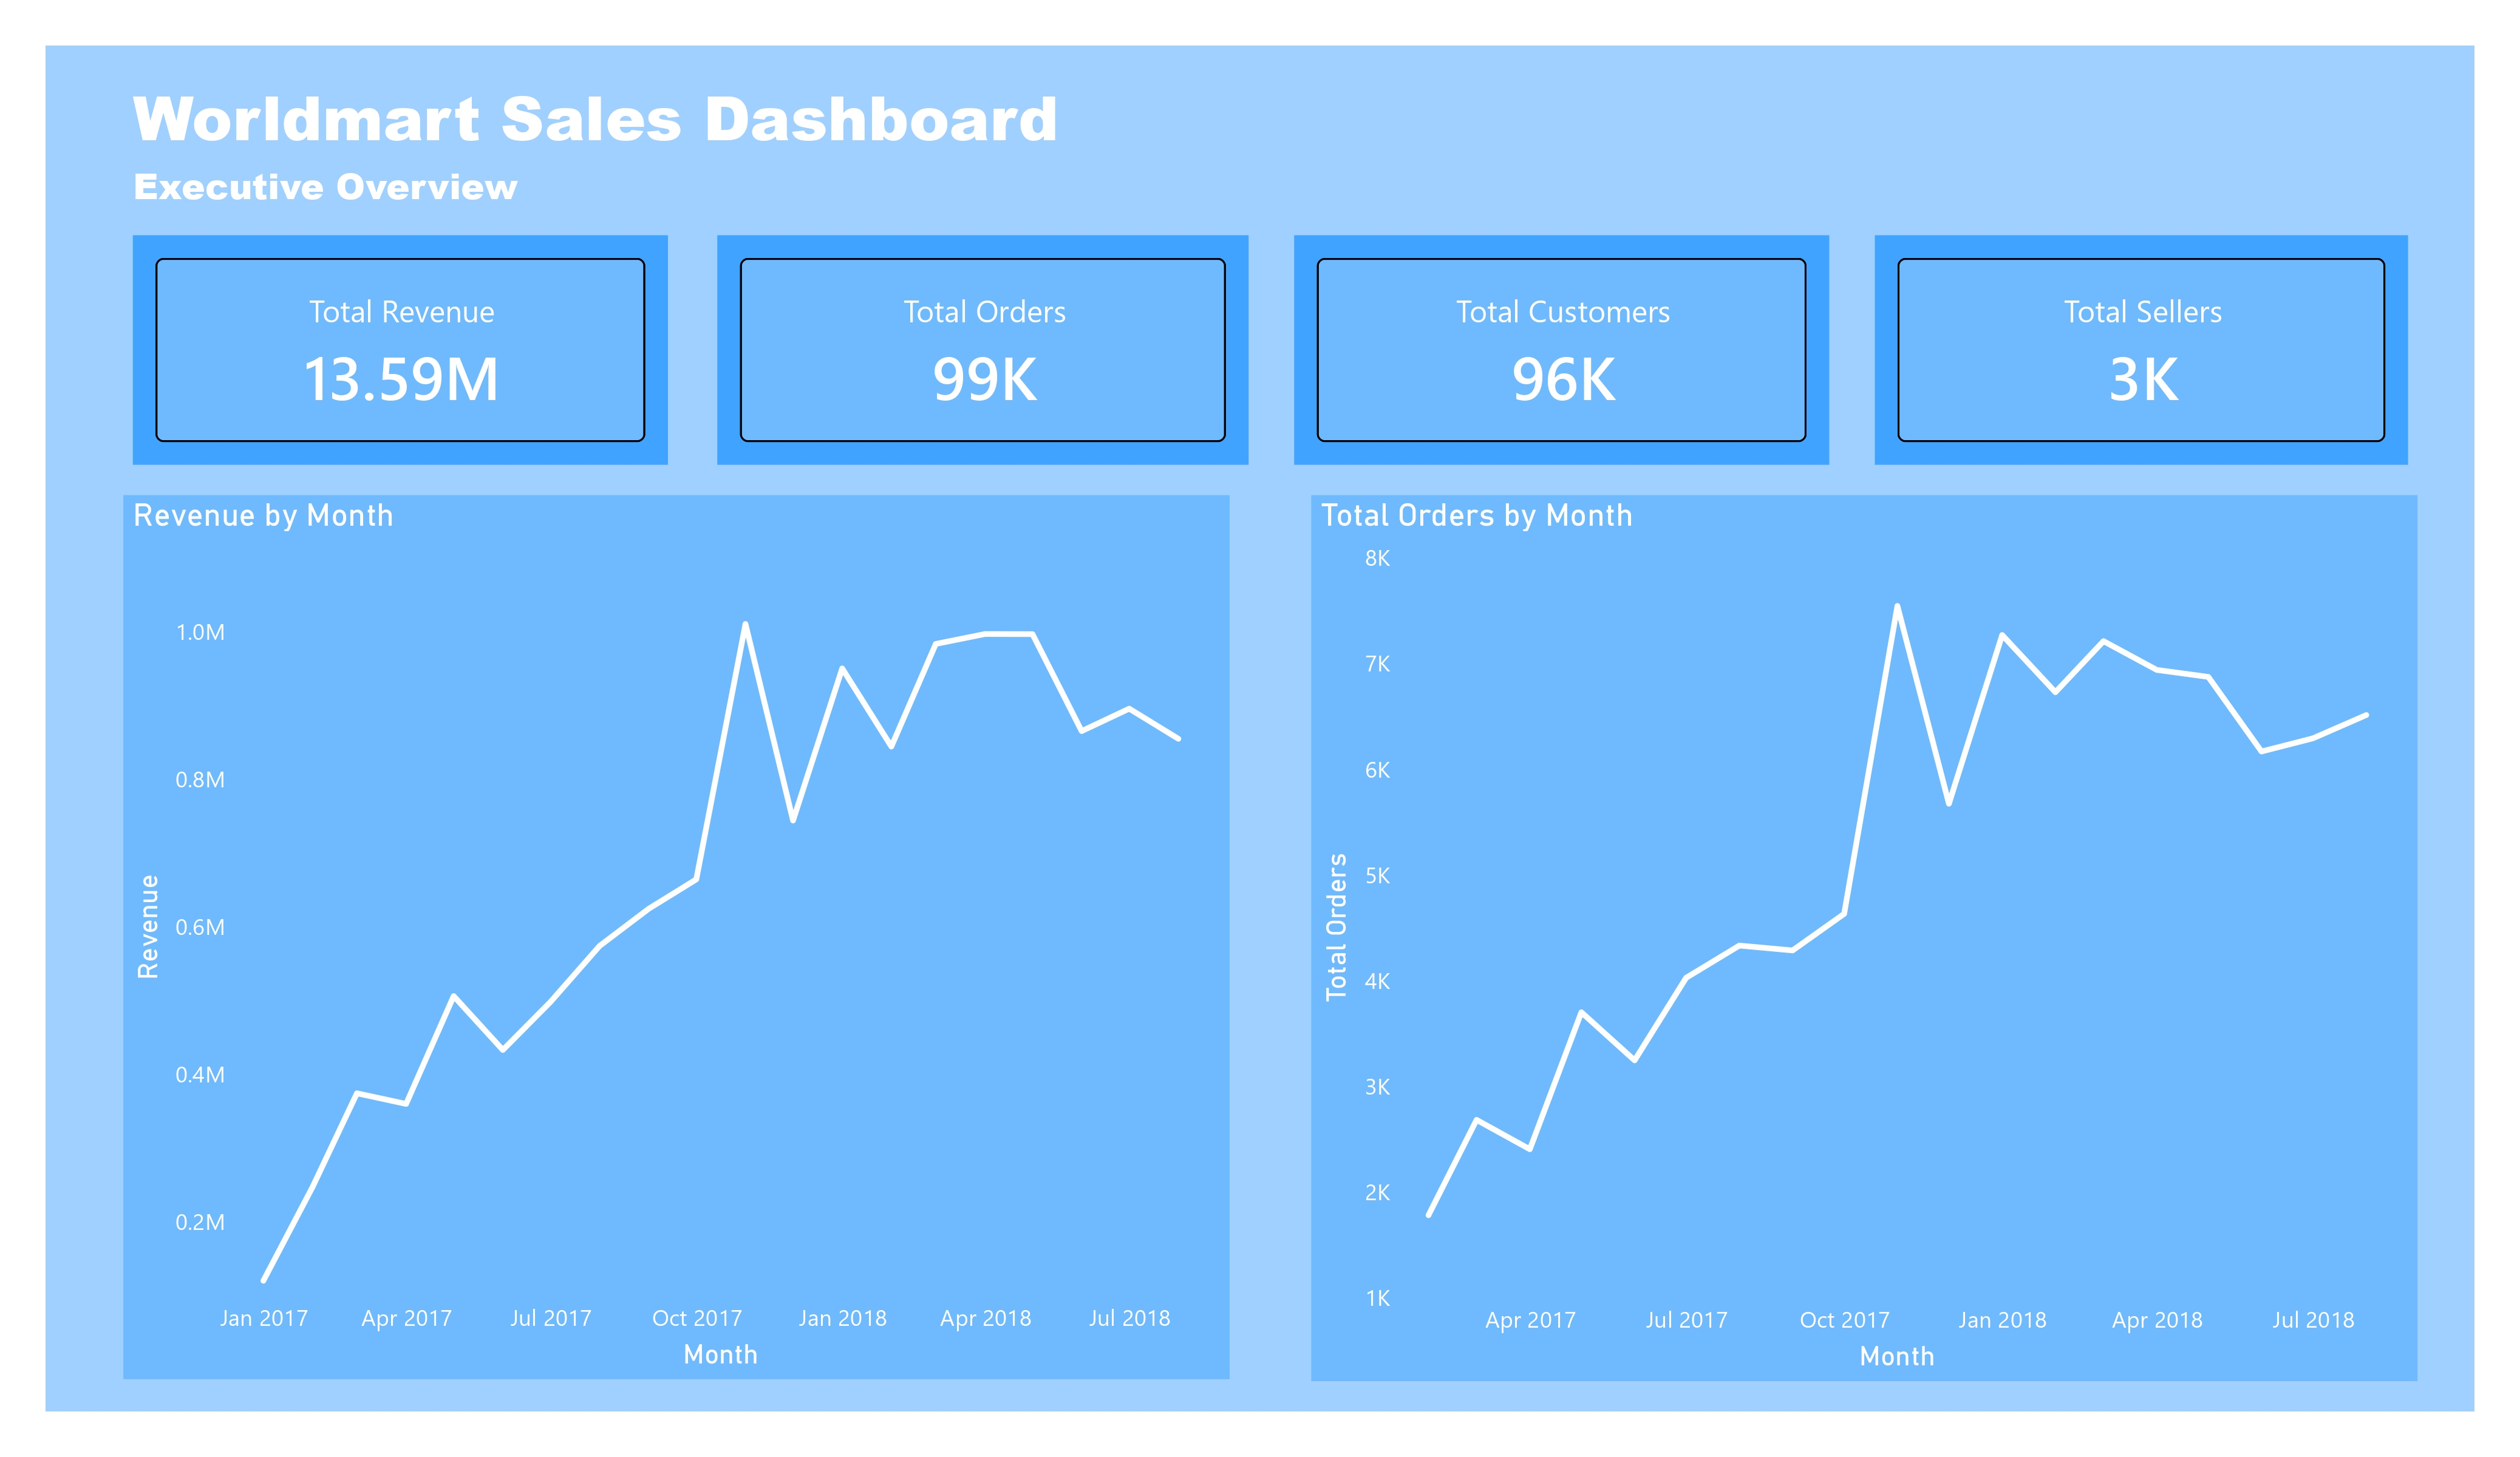

The dashboard page shown, as its layout file describes it:
{"tool":"powerbi","page":{"name":"Page 1","canvas":[1280,720],"ordinal":0},"visuals":[{"type":"cardVisual","fields":{"Data":["Sum(Executive KPI.total_revenue)"]},"box":[41.2,94.7,292.3,131.7],"z":0},{"type":"lineChart","fields":{"Y":["Sum(Monthly Revenue.revenue)"],"Category":["Monthly Revenue.month"]},"box":[41.2,237.4,583.2,465.2],"z":1000},{"type":"lineChart","fields":{"Category":["Monthly Order.month"],"Y":["Sum(Monthly Order.total_orders)"]},"box":[666.9,237.4,583.2,466.6],"z":2000},{"type":"cardVisual","fields":{"Data":["Sum(Executive KPI.total_orders)"]},"box":[348.5,94.7,290.9,131.7],"z":3000},{"type":"cardVisual","fields":{"Data":["Sum(Executive KPI.total_customers)"]},"box":[653.2,94.7,292.3,131],"z":4000},{"type":"cardVisual","fields":{"Data":["Sum(Executive KPI.total_sellers)"]},"box":[959.2,94.7,290.9,131.7],"z":5000},{"type":"textbox","box":[41.2,9.6,572.2,85.1],"z":6000}]}

Visuals, with their boxes on the page's 1280x720 design canvas (x1, y1, x2, y2). These are canvas units, not pixel positions in the 2520x1457 screenshot, which may show the page scaled, cropped or inside an application window:
cardVisual - Sum(Executive KPI.total_revenue): Rect(41, 95, 334, 226)
lineChart - Sum(Monthly Revenue.revenue) x Monthly Revenue.month: Rect(41, 237, 624, 703)
lineChart - Monthly Order.month x Sum(Monthly Order.total_orders): Rect(667, 237, 1250, 704)
cardVisual - Sum(Executive KPI.total_orders): Rect(348, 95, 639, 226)
cardVisual - Sum(Executive KPI.total_customers): Rect(653, 95, 946, 226)
cardVisual - Sum(Executive KPI.total_sellers): Rect(959, 95, 1250, 226)
textbox: Rect(41, 10, 613, 95)
